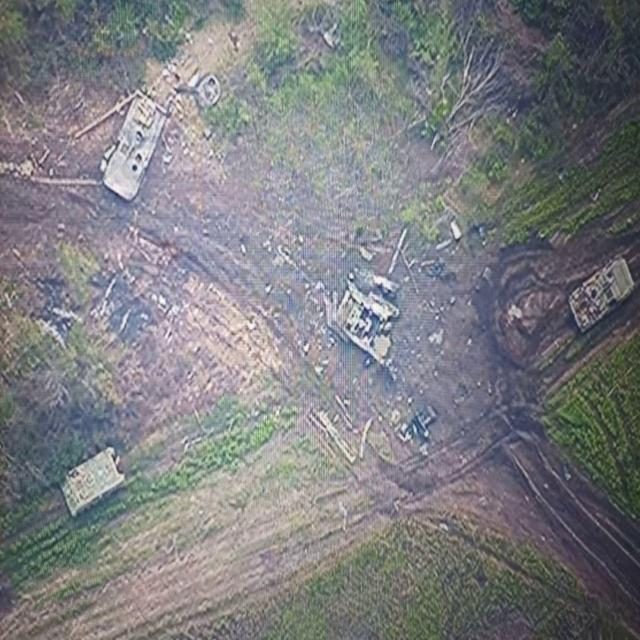AIFV: (102, 90, 171, 210), (569, 255, 637, 337), (62, 444, 128, 523)
